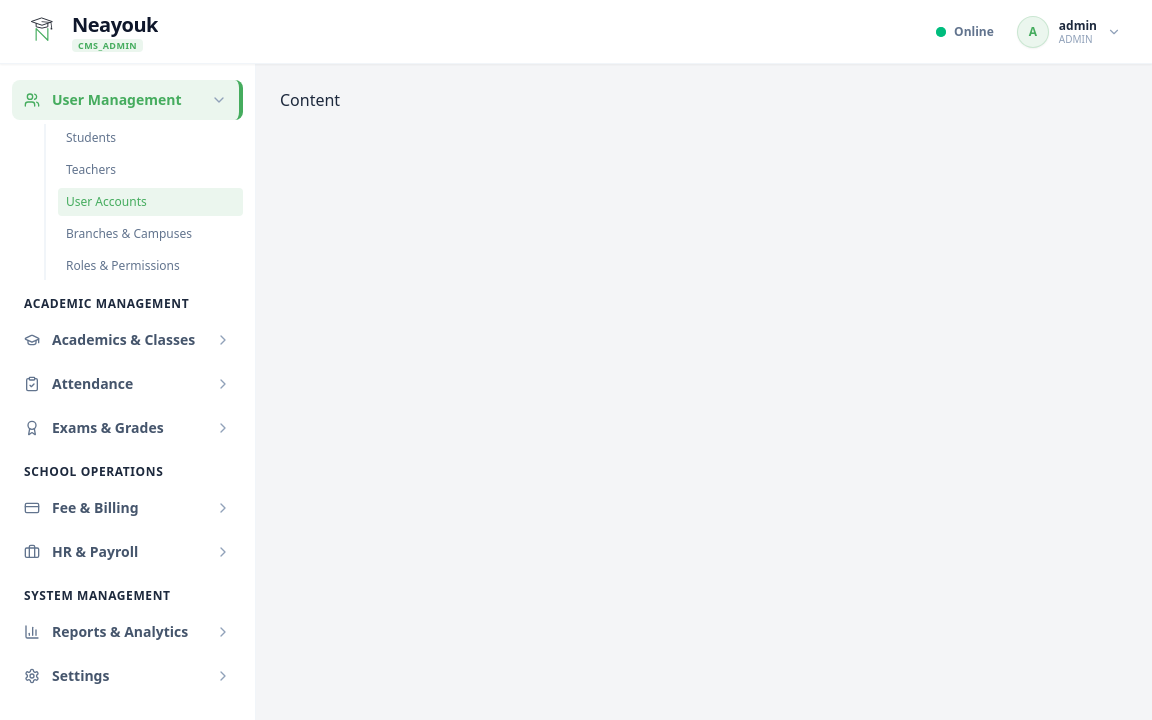
Test: AdminLayout › allows expanding and collapsing sidebar navigation sections
Check: the text "Programs & Books" is not shown
What coordinates should you click on to do the following:
click the button "Academics & Classes"
I would click on:
 (128, 340)
Its box is [12, 320, 243, 360].
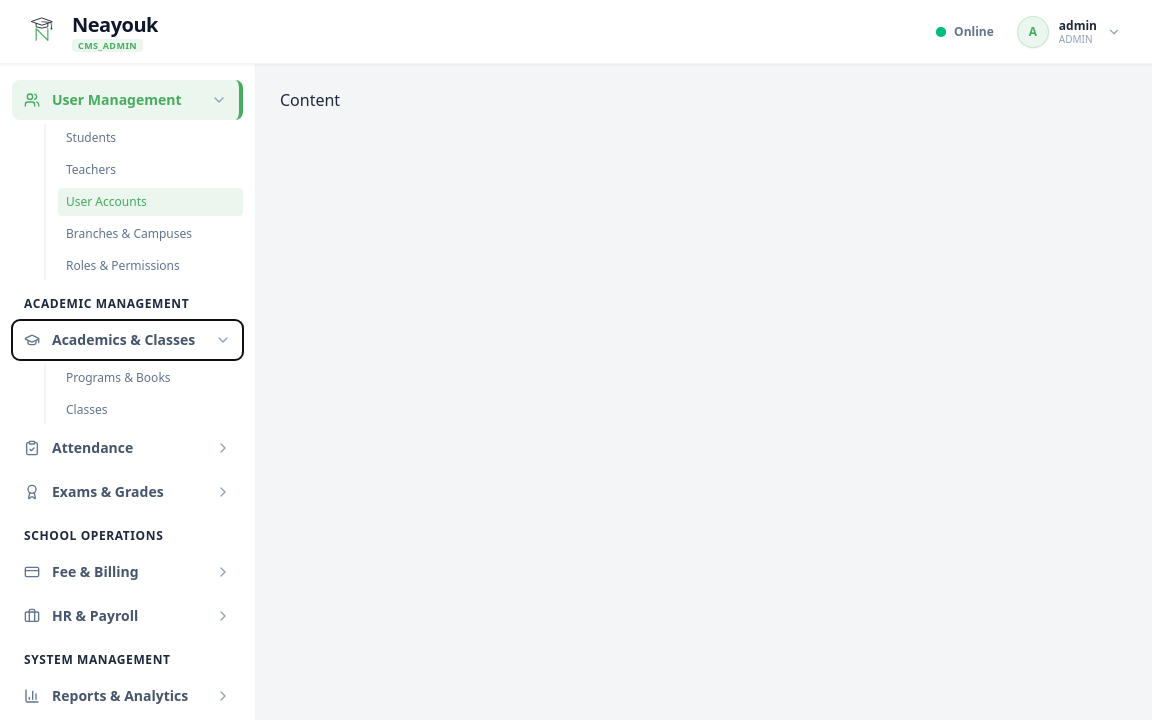
Check: the text "Programs & Books" is shown, box [66, 370, 170, 386]
Check: the text "Classes" is shown, box [66, 402, 107, 418]
